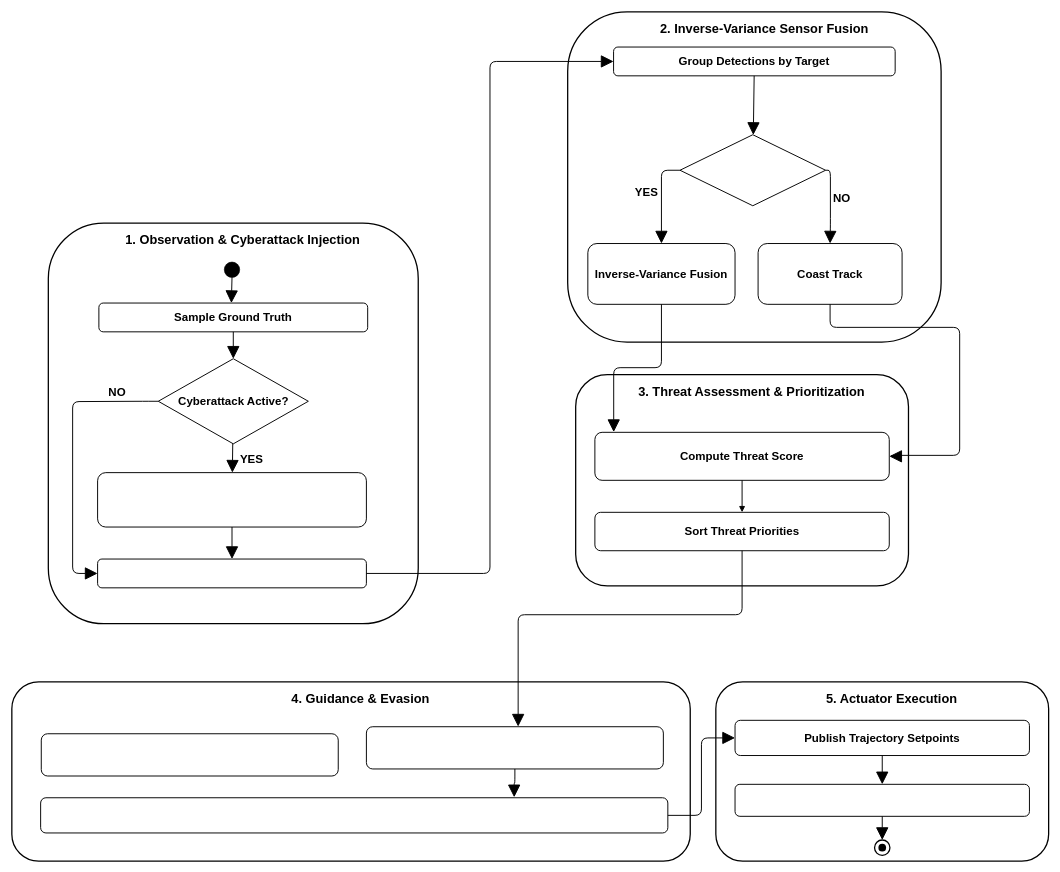
The diagram is 1060 pixels wide and 872 high, and some of its shapes have lost their labels. Here are the shapes that lost their labels. From the top down, the centre of each, then its label:
point (752, 170): Target Detected?
point (232, 499): Inject Attack Degradation
point (232, 573): Add Gaussian Noise
point (189, 754): Attacker Evasion Vector
point (515, 747): Defender Intercept Vector
point (354, 815): Normalize commanded velocity setpoints within max velocity envelope (8.0 m/s)
point (882, 800): Execute Actuator Mixes
